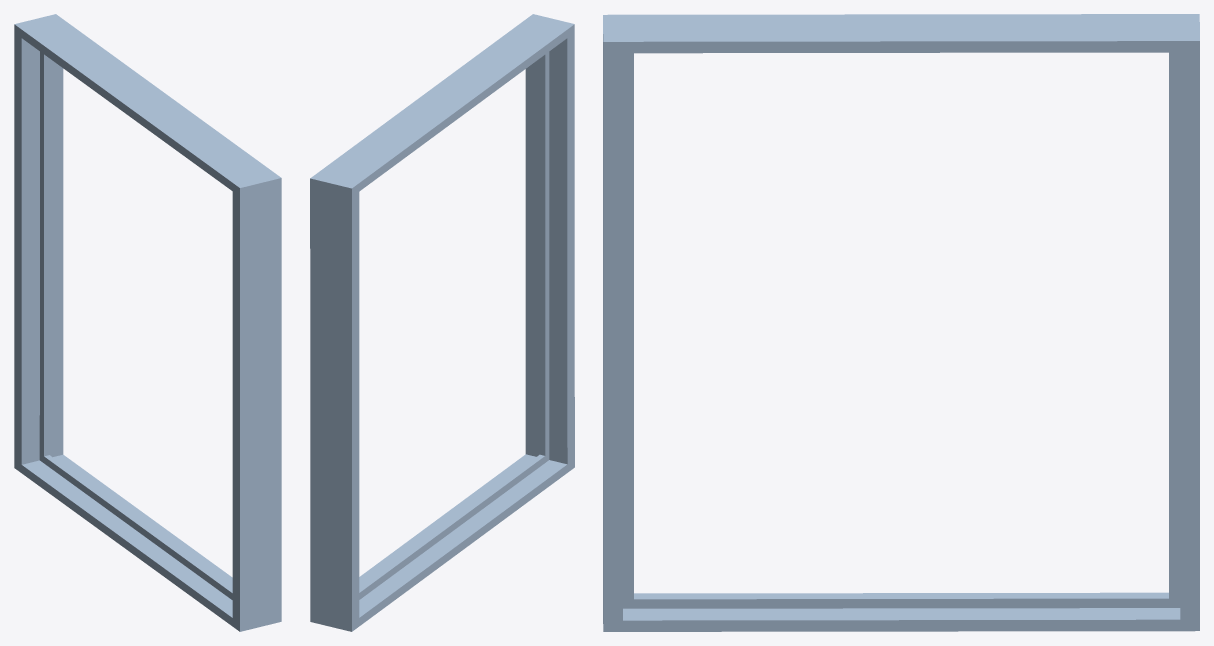
Rendered from MarcoFija.fbx.
3 views of the same model, side by side, from view 1: azimuth 30°, elevation 25°; view 2: azimuth 150°, elevation 25°; view 3: azimuth 270°, elevation 25° (orthographic). The views are drawn at different scales.
Visible parts, largest first — view 1: Cube.003, Cube.001; view 2: Cube.003, Cube.001; view 3: Cube.003, Cube.001.
Part boxes in pixels (x1,y1,x2,y2): Cube.003: (14, 14, 281, 631); Cube.001: (39, 51, 232, 599); Cube.003: (310, 14, 574, 631); Cube.001: (359, 52, 549, 599); Cube.003: (603, 14, 1199, 631); Cube.001: (623, 52, 1180, 608).
Bounding box in the file's own units: 35.24 × 348 × 319.
